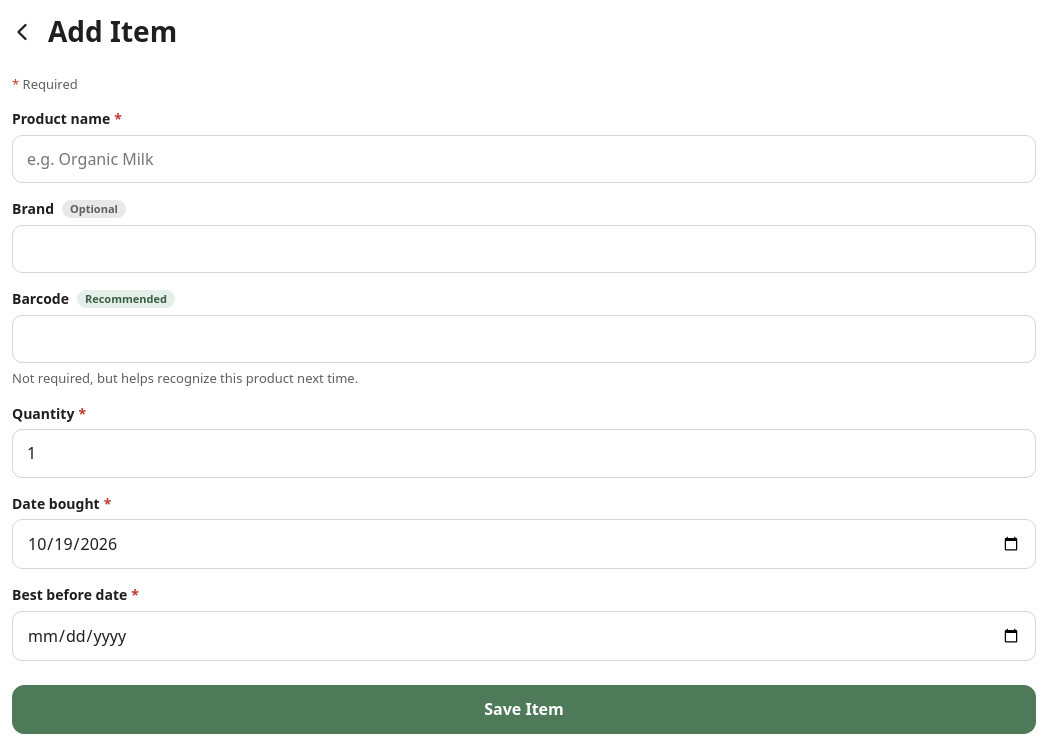
Test: AddItemPage › allows a best before date on the same day as the date bought
Type "2026-10-10" into the date field labelled "Date bought *" at coordinates (524, 544), box [12,519,1036,570]
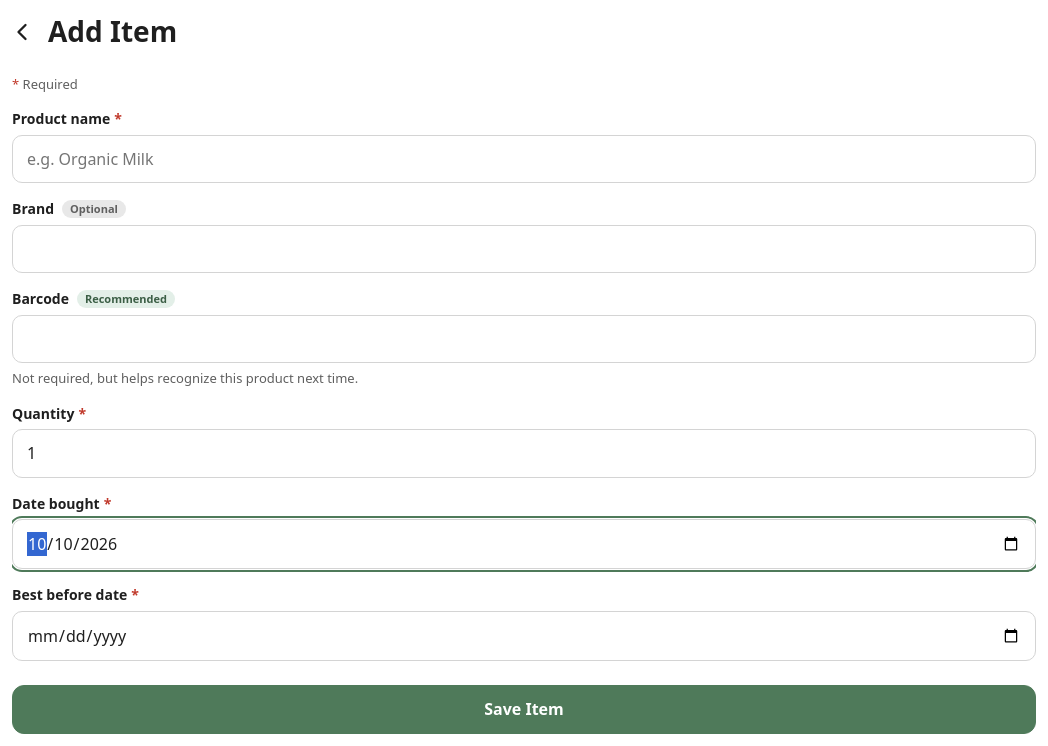
Type "Bread" into the field labelled "Product name *" at coordinates (524, 159), box [12,135,1036,183]
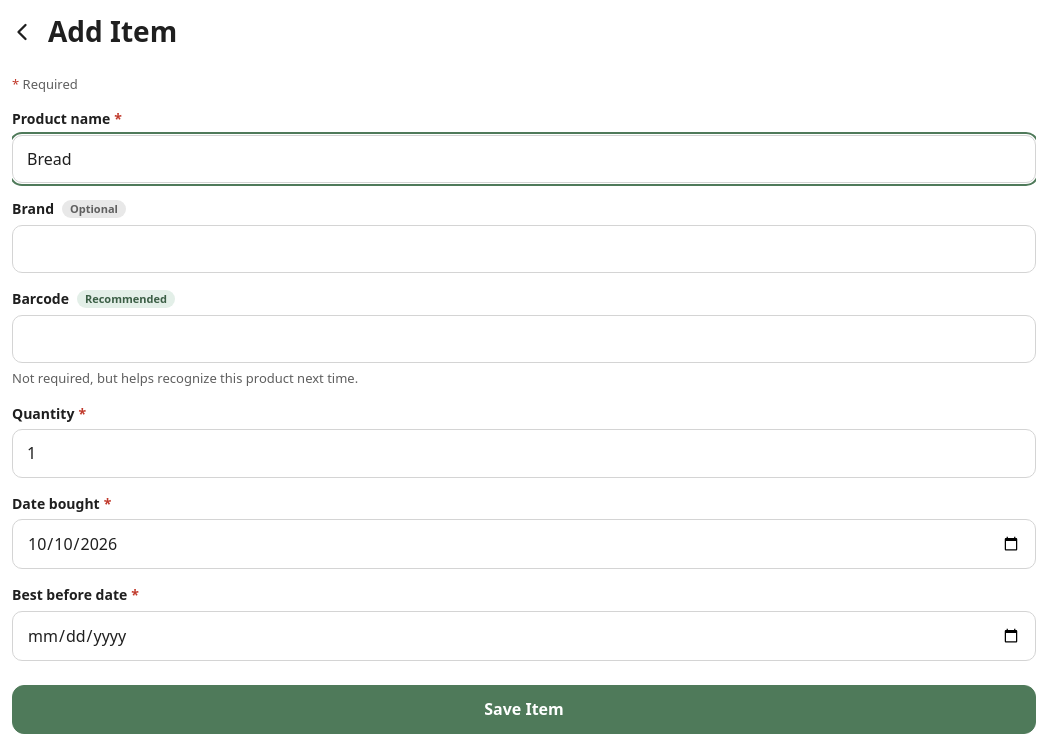
Type "2026-10-10" into the date field labelled "Best before date *" at coordinates (524, 636), box [12,611,1036,662]
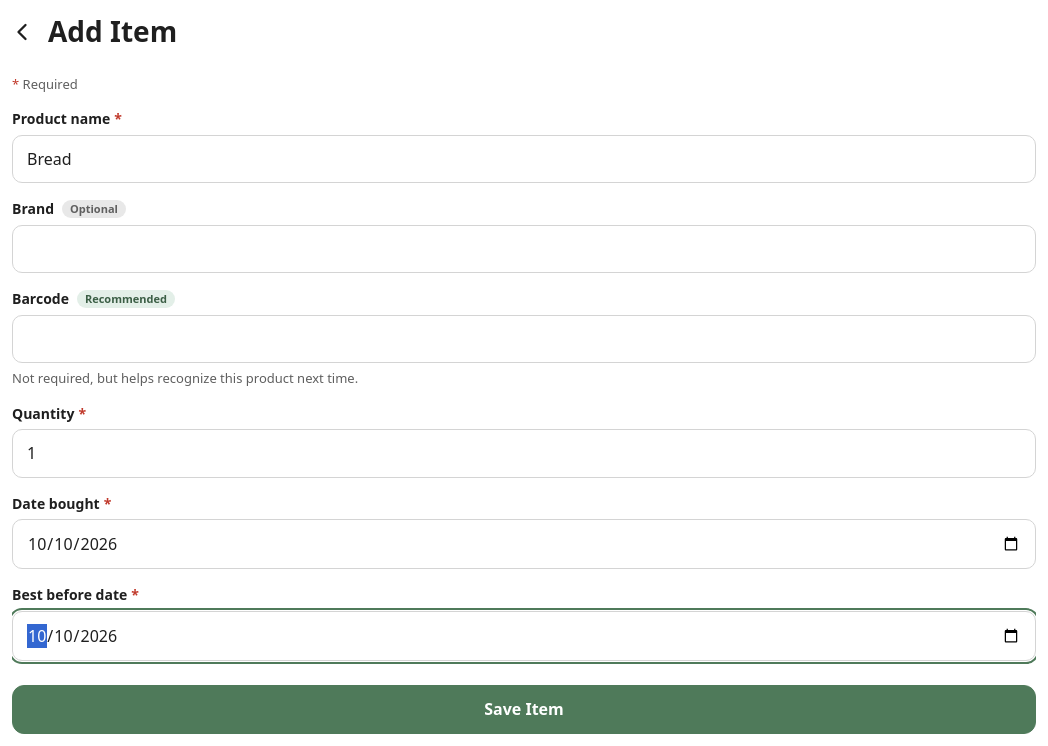
Click the button "Save Item" at coordinates (524, 710), box [12,686,1036,734]
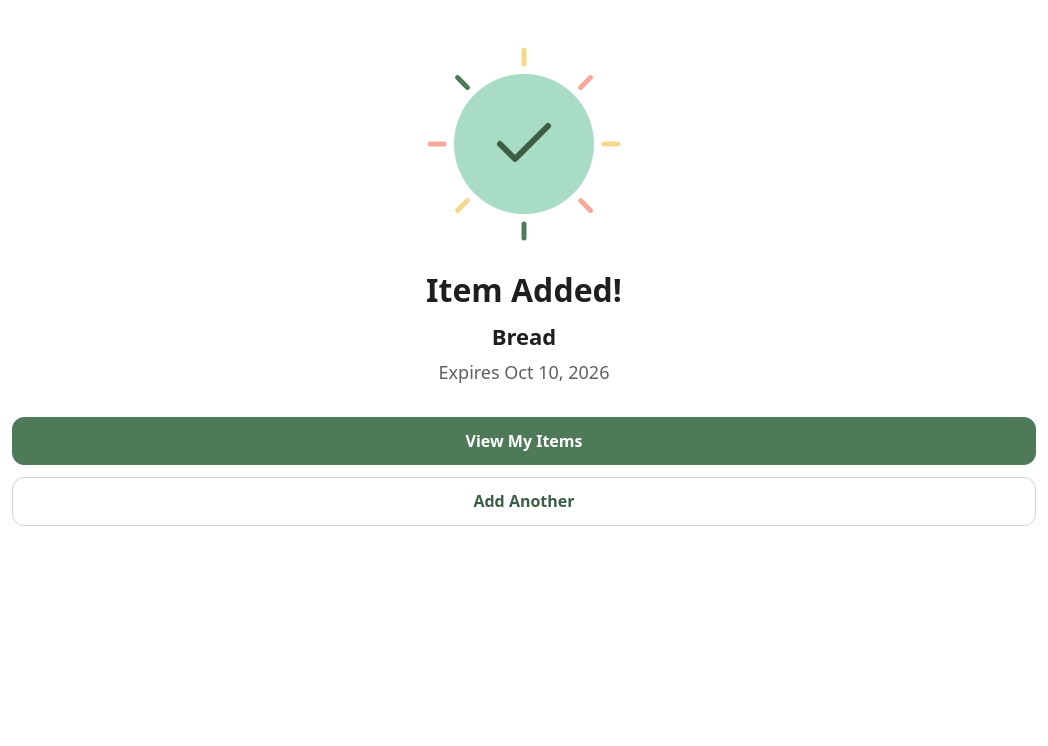
Result: the heading "Item Added!" is shown at [426,268,622,313]
